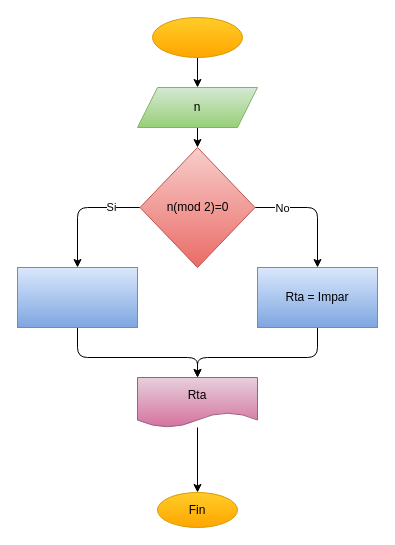
The diagram is 395 pixels wide and 545 high, and some of its shapes have lost their labels. Each missing label, with the box of its shape:
Inicio: (152, 16, 242, 58)
Rta = Par: (16, 266, 138, 328)
